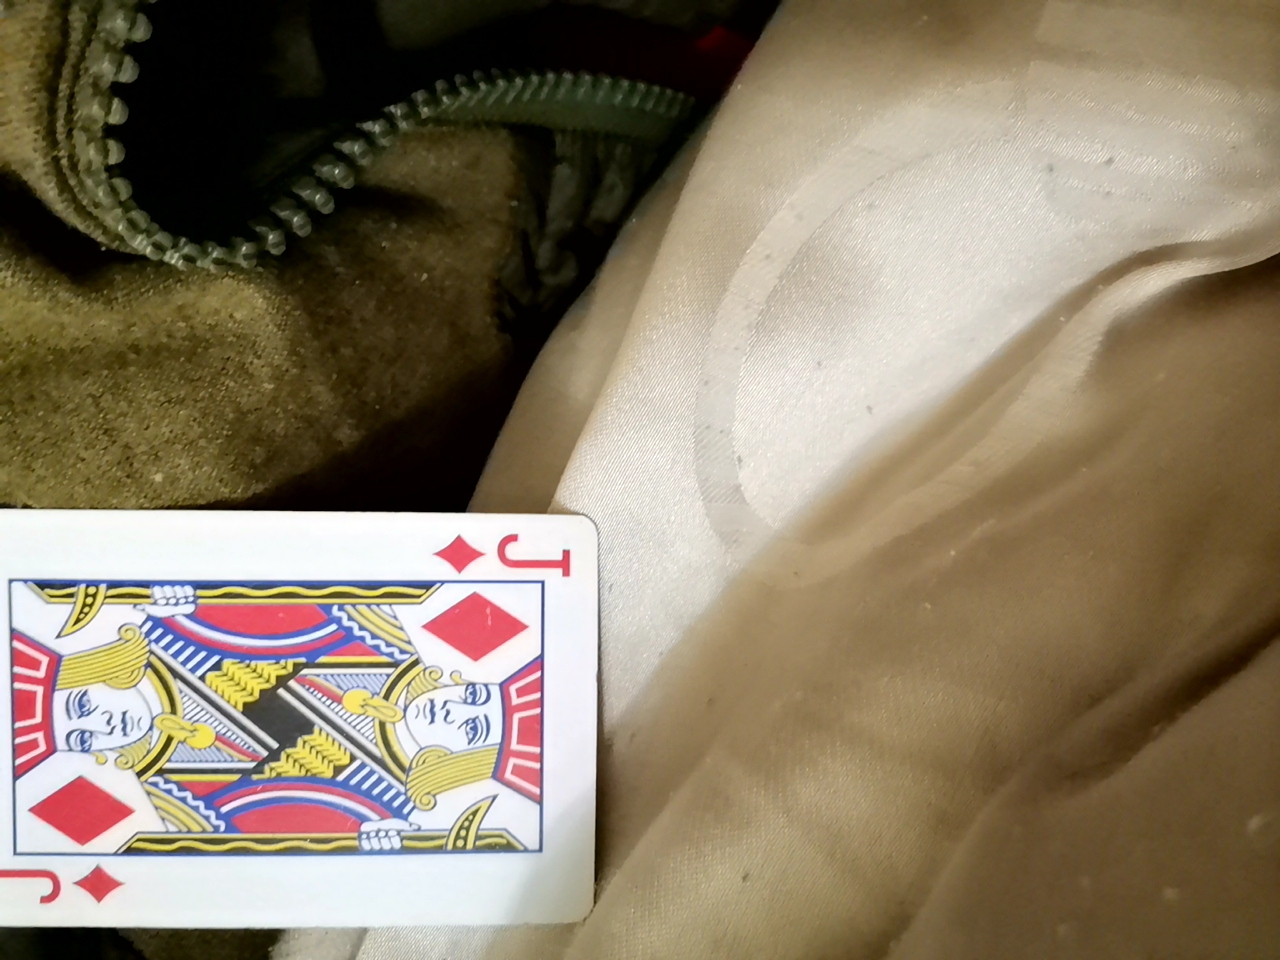fk j: (3, 500, 605, 952)
